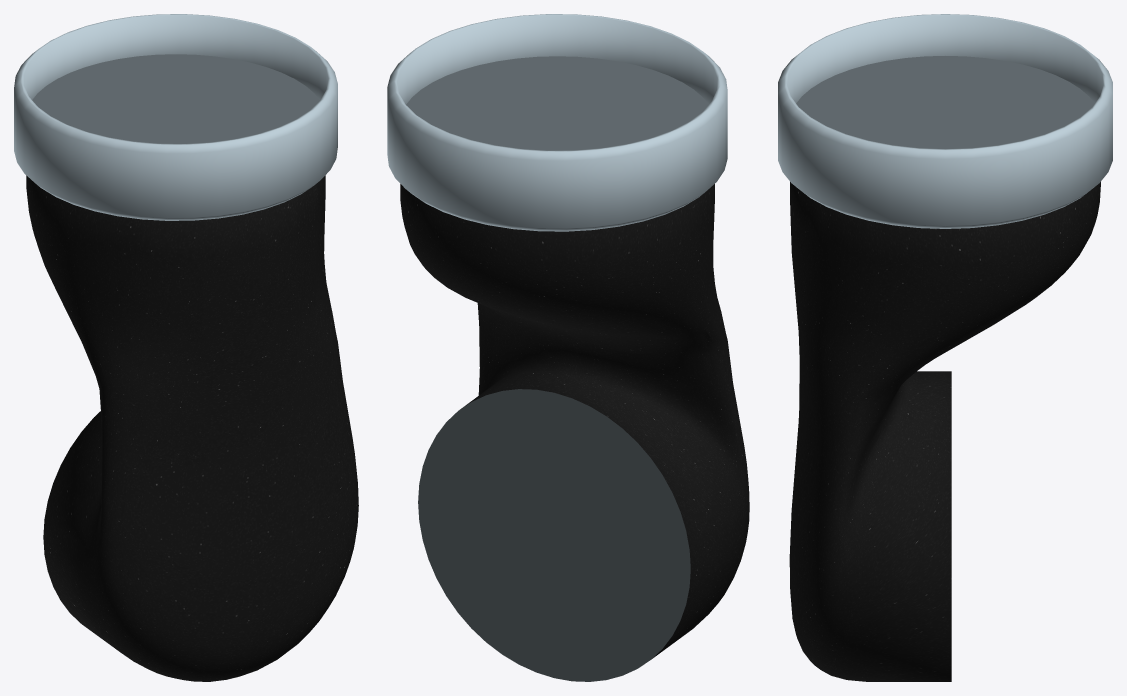
The model's file is shoulder.dae.
3 renders of one model, left to right at view 1: azimuth 30°, elevation 25°; view 2: azimuth 150°, elevation 25°; view 3: azimuth 270°, elevation 25°, orthographic. The views are drawn at different scales.
Visible parts, largest first — view 1: node.005, Ring Big; view 2: node.005, Ring Big; view 3: node.005, Ring Big.
Boxes of the visible parts, x1,y1,x2,y2 form: node.005: [26, 54, 358, 681]; Ring Big: [14, 14, 337, 220]; node.005: [400, 56, 749, 681]; Ring Big: [387, 14, 727, 231]; node.005: [789, 56, 1100, 681]; Ring Big: [778, 14, 1112, 228].
Size of the model in its own units: 0.0892 by 0.0889 by 0.1714.
1 material, 1 textured.
